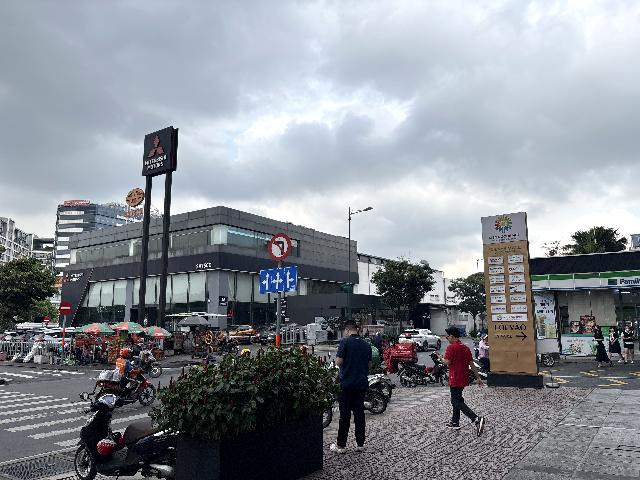cam-di-nguoc-chieu: (59, 301, 72, 316)
cam-re-trai: (268, 233, 292, 261)
